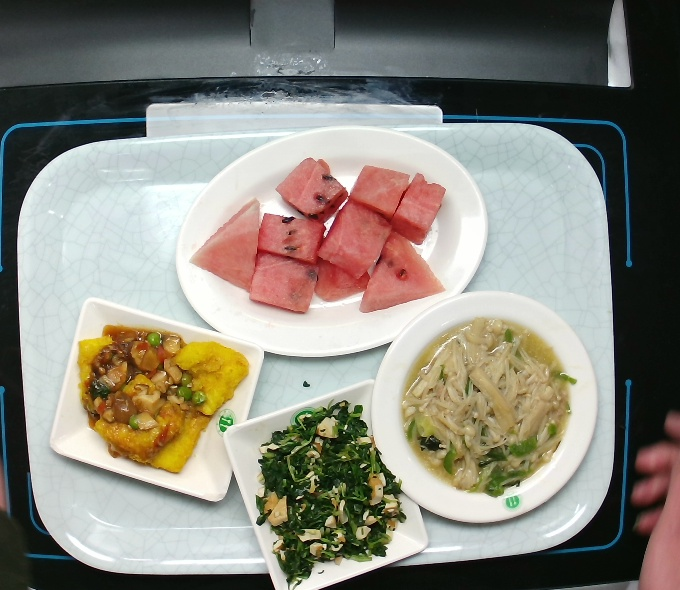wcq-CuiPiDouFu: (76, 322, 252, 474)
wcq-JinZhenGu: (401, 311, 571, 494)
wcq-MaLanTouChaoDouGan: (254, 400, 405, 579)
wcq-XiGua: (186, 155, 449, 315)
